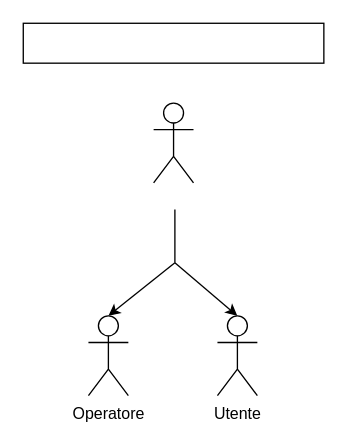
The diagram is 347 pixels wide and 447 high, and some of its shapes have lost their labels. Each missing label, with the centre of its shape:
"Actor" belongs at pixel 173 142.
"ACTORS" belongs at pixel 173 42.
